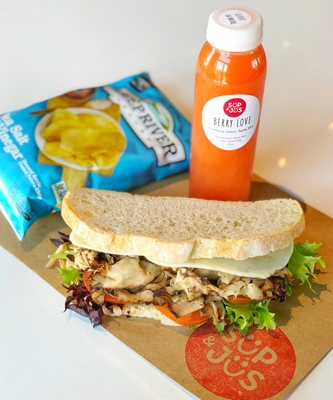soup: (52, 186, 319, 335)
